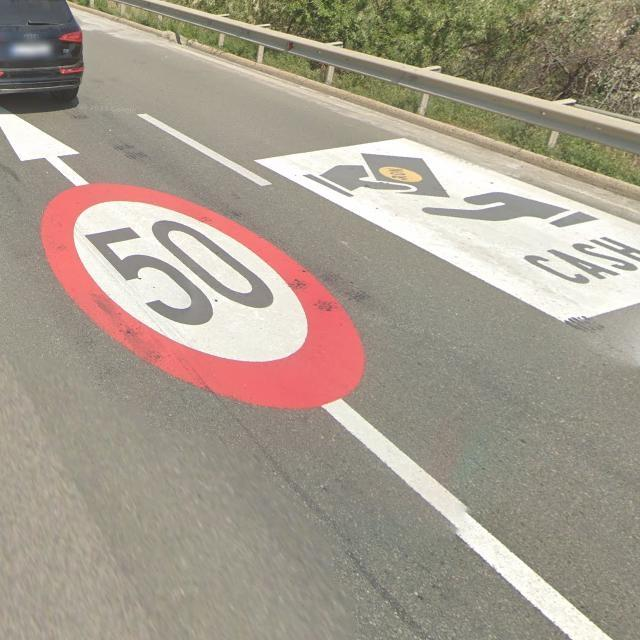forb_speed_over_50: (39, 181, 367, 408)
